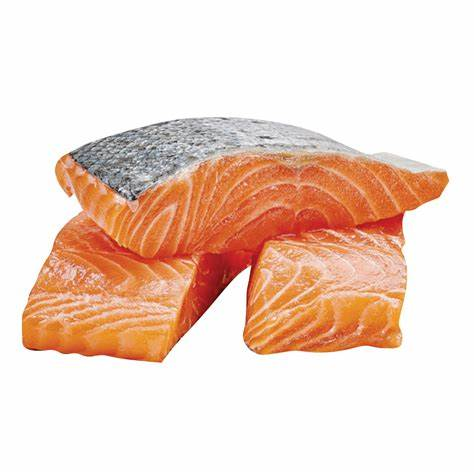Tuna: (29, 118, 455, 267), (11, 200, 256, 369), (241, 218, 411, 360)
